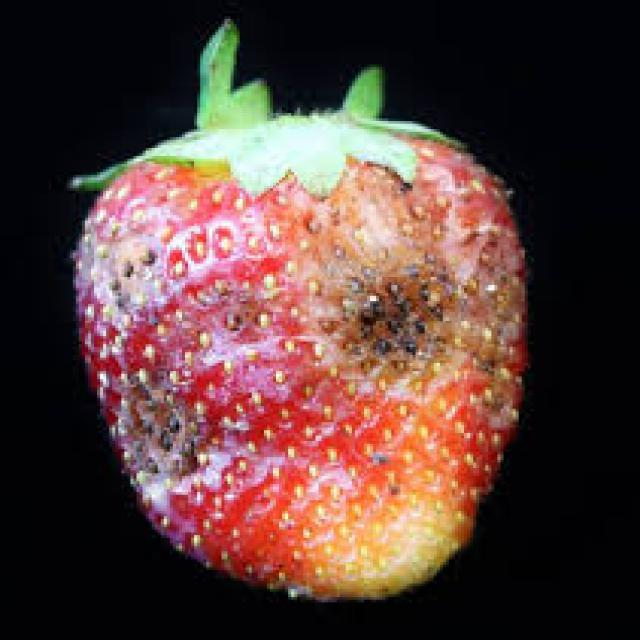Mancha negra Antracnosis: (73, 111, 538, 601)
